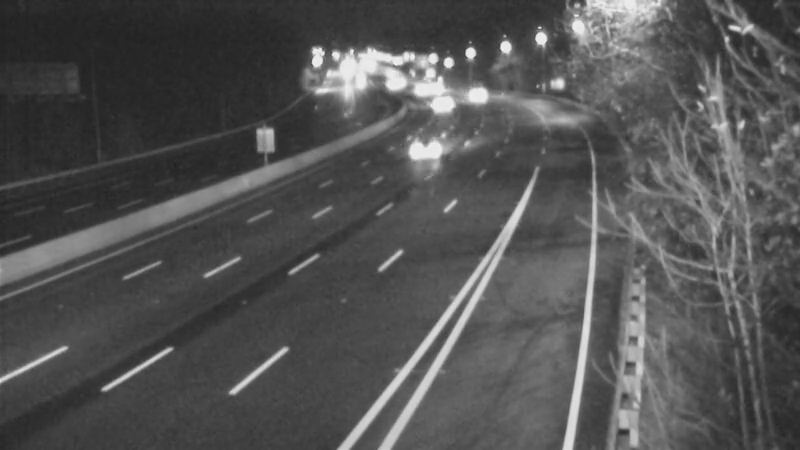vehicle: (387, 112, 467, 192), (389, 64, 439, 114), (408, 63, 458, 113), (455, 76, 505, 126), (414, 78, 464, 128)
